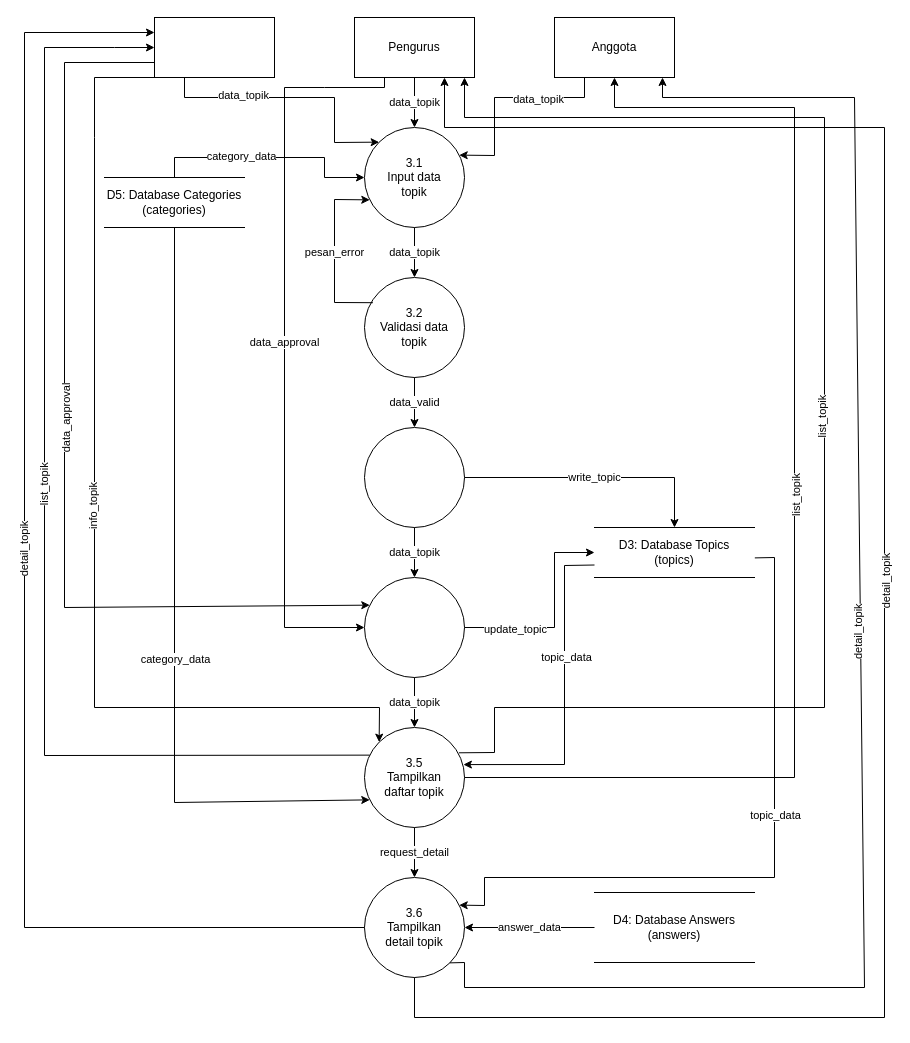
This 910x1043 diagram has some shape labels left out. The shapes that lost their labels are listed below. From the top down, each one's centre as x and y in pixels, then its label:
the point at 214,47: Administrator
the point at 414,477: 3.3 Simpan data topik
the point at 414,627: 3.4 Approval topik
